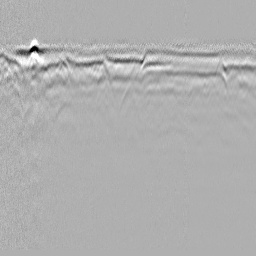cavity: (118, 79, 139, 113)
